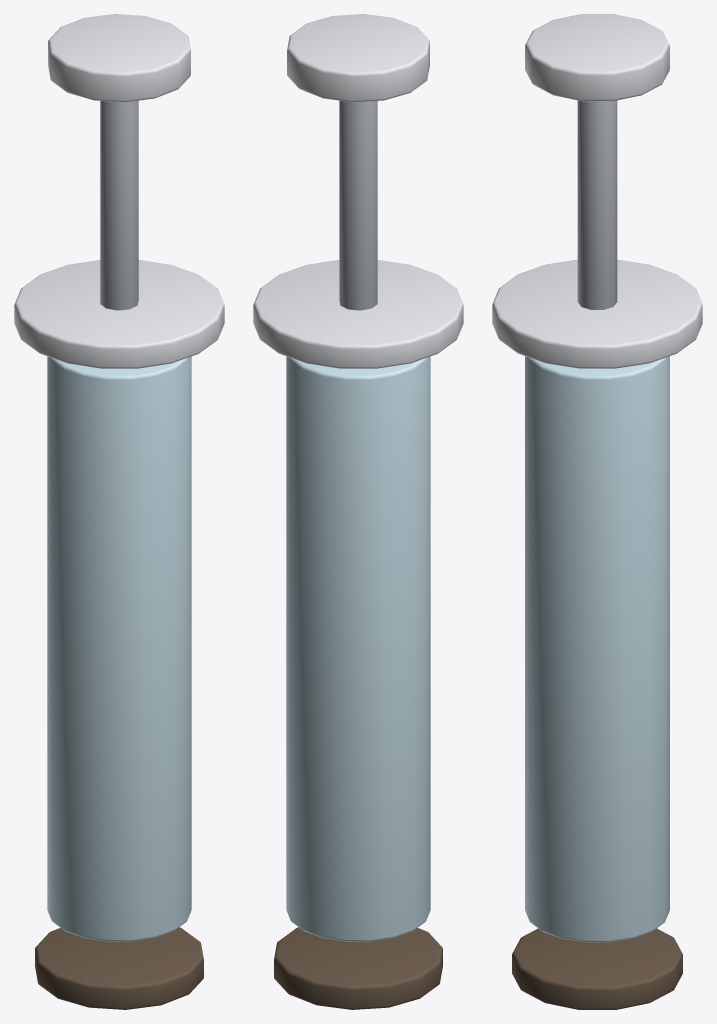
Rendered from seringa_pe.glb.
3 renders of one model, left to right at view 1: azimuth 30°, elevation 25°; view 2: azimuth 150°, elevation 25°; view 3: azimuth 270°, elevation 25°, orthographic.
Parts seen in each view (by area): view 1: seringa_pe; view 2: seringa_pe; view 3: seringa_pe.
Boxes of the visible parts, <box> form: seringa_pe: <box>14,14,224,1009</box>; seringa_pe: <box>253,14,463,1009</box>; seringa_pe: <box>492,14,702,1009</box>.
Bounding box in the file's own units: 0.3151 × 1.61 × 0.32.
